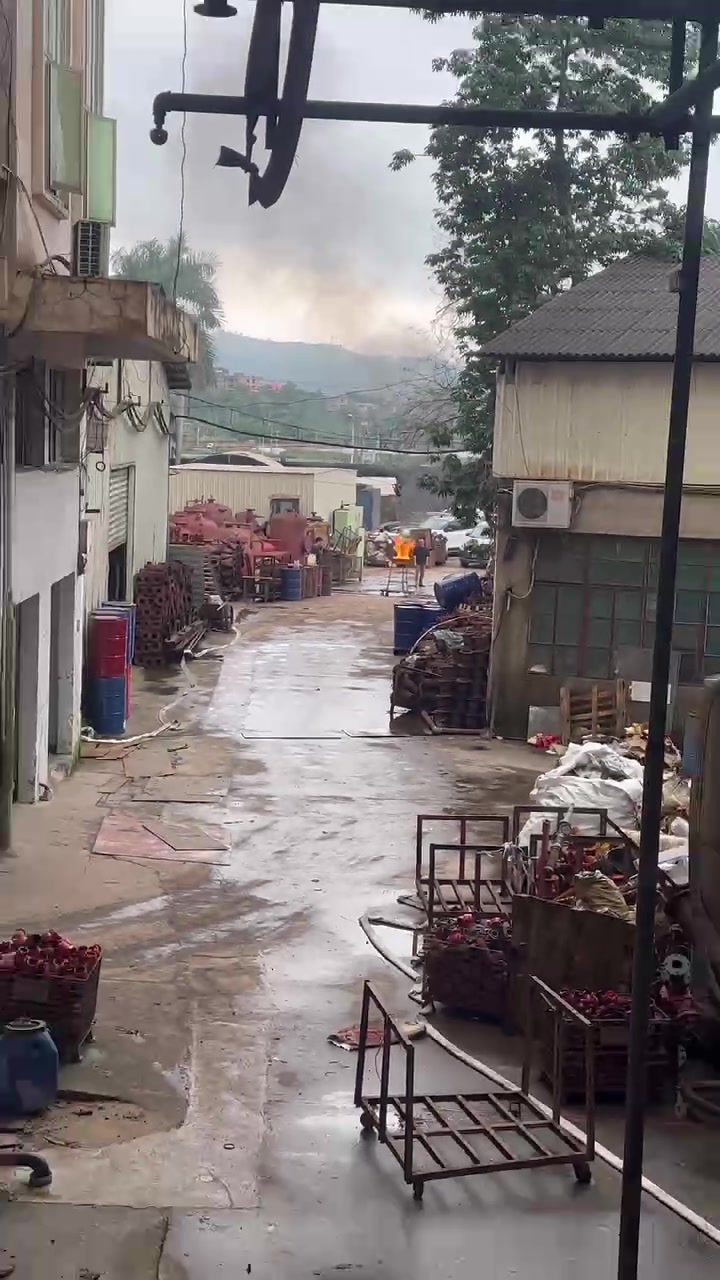fire: (392, 537, 413, 559)
